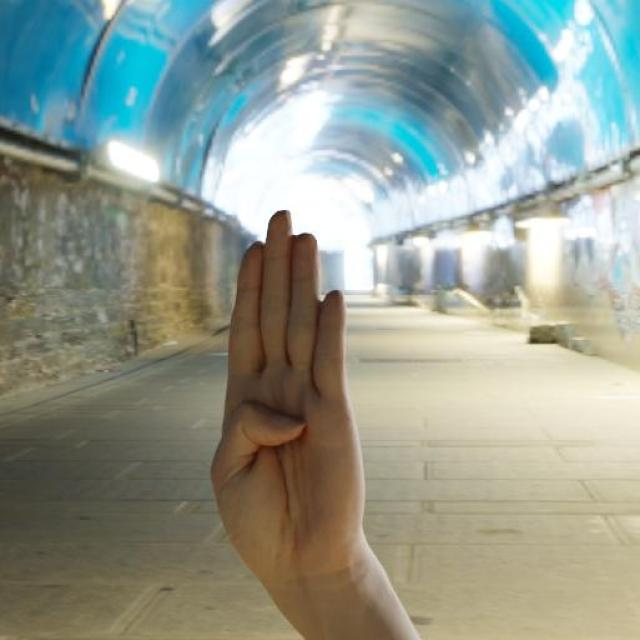B: (203, 202, 380, 602)
